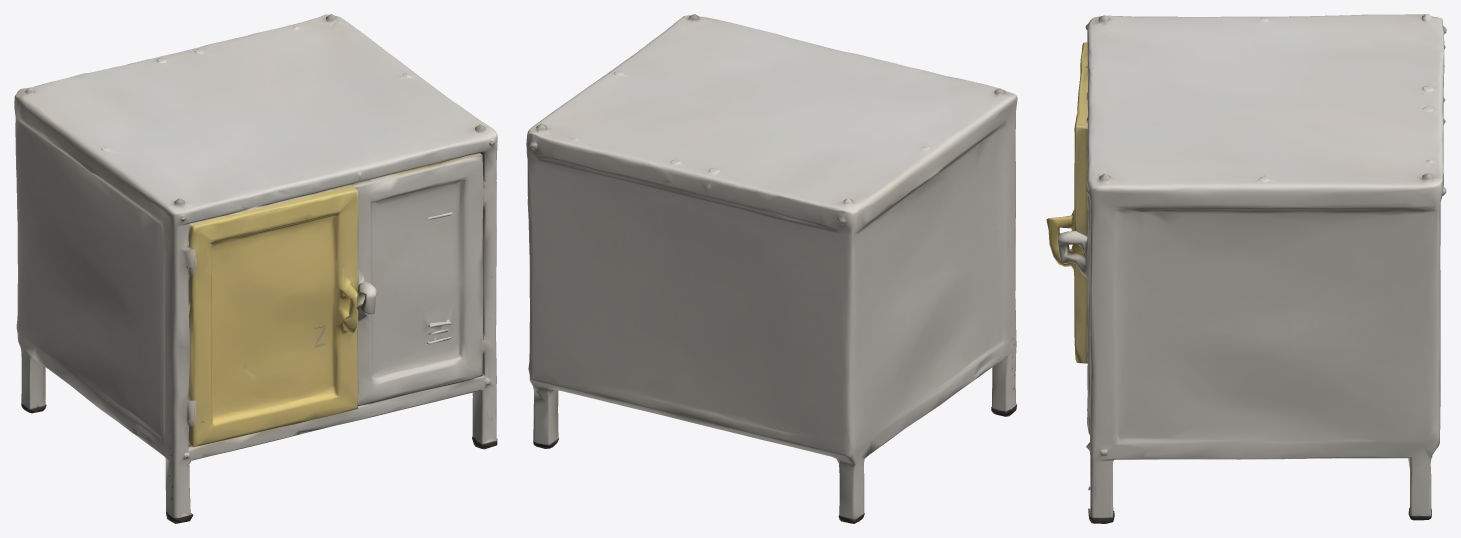
File: level1-bedside-cabinet.glb
3 views of the same model, side by side, from view 1: azimuth 30°, elevation 25°; view 2: azimuth 150°, elevation 25°; view 3: azimuth 270°, elevation 25° (orthographic). The views are drawn at different scales.
Visible parts, largest first — view 1: tripo_node_155256c9-54b6-433c-bb44-c9deee1469f6; view 2: tripo_node_155256c9-54b6-433c-bb44-c9deee1469f6; view 3: tripo_node_155256c9-54b6-433c-bb44-c9deee1469f6.
Part boxes in pixels (<box>): tripo_node_155256c9-54b6-433c-bb44-c9deee1469f6: <box>14,14,497,523</box>; tripo_node_155256c9-54b6-433c-bb44-c9deee1469f6: <box>526,14,1017,523</box>; tripo_node_155256c9-54b6-433c-bb44-c9deee1469f6: <box>1046,14,1446,523</box>.
Bounding box in the file's own units: 0.9832 × 0.9117 × 0.9574.
Materials: 1 (1 with a texture image).
